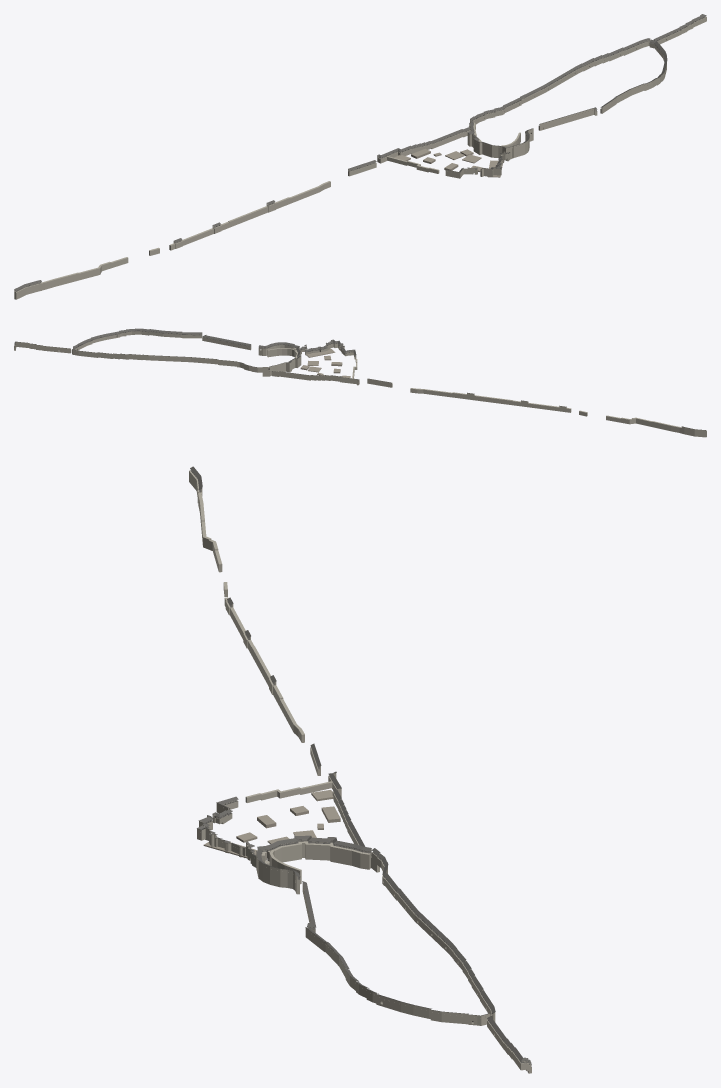
Rendered from walls.glb.
The picture shows the model from 3 angles, top to bottom: view 1: azimuth 30°, elevation 25°; view 2: azimuth 150°, elevation 25°; view 3: azimuth 270°, elevation 25°; orthographic projection. The views are drawn at different scales.
Visible parts, largest first — view 1: walls; view 2: walls; view 3: walls.
Part boxes in pixels (x1=…): walls: x1=14, y1=14, x2=706, y2=299; walls: x1=14, y1=328, x2=706, y2=437; walls: x1=189, y1=466, x2=531, y2=1073.
Bounding box in the file's own units: 1226 × 22.16 × 299.
